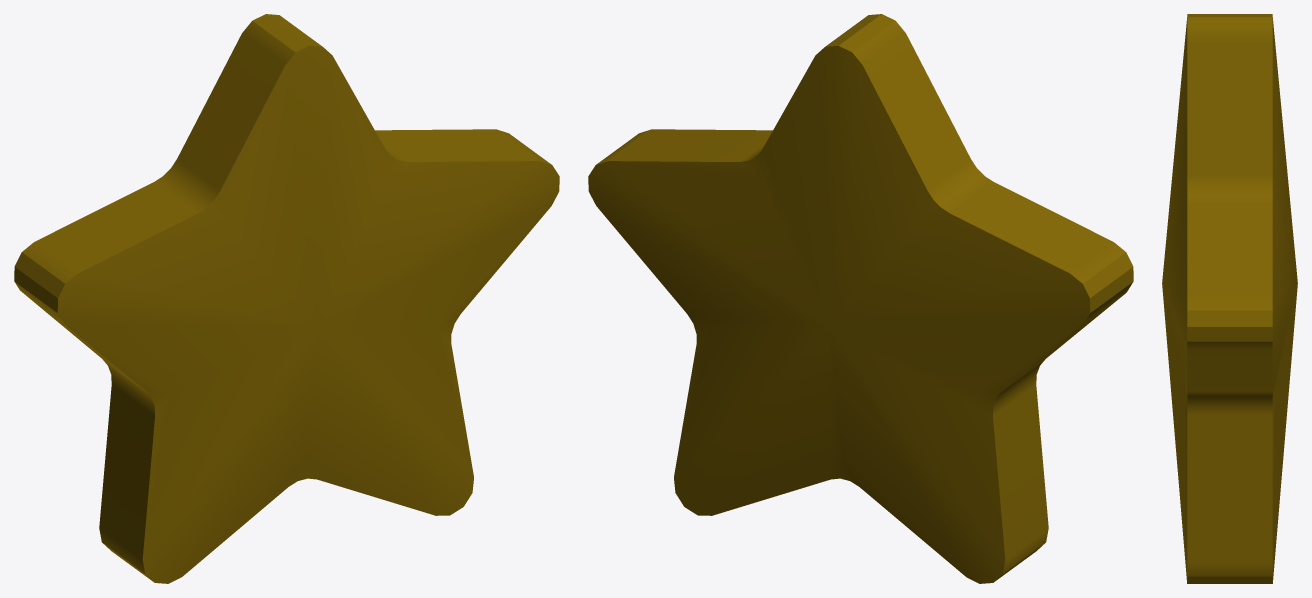
The model's file is star.fbx.
The picture shows the model from 3 angles, left to right: view 1: azimuth 30°, elevation 25°; view 2: azimuth 150°, elevation 25°; view 3: azimuth 270°, elevation 25°; orthographic projection.
Visible parts, largest first — view 1: pCylinder1; view 2: pCylinder1; view 3: pCylinder1.
Boxes of the visible parts, x1=… form: pCylinder1: x1=14, y1=14, x2=559, y2=583; pCylinder1: x1=588, y1=14, x2=1133, y2=583; pCylinder1: x1=1162, y1=14, x2=1297, y2=583.
Bounding box in the file's own units: 1.17 × 1.13 × 0.2789.
